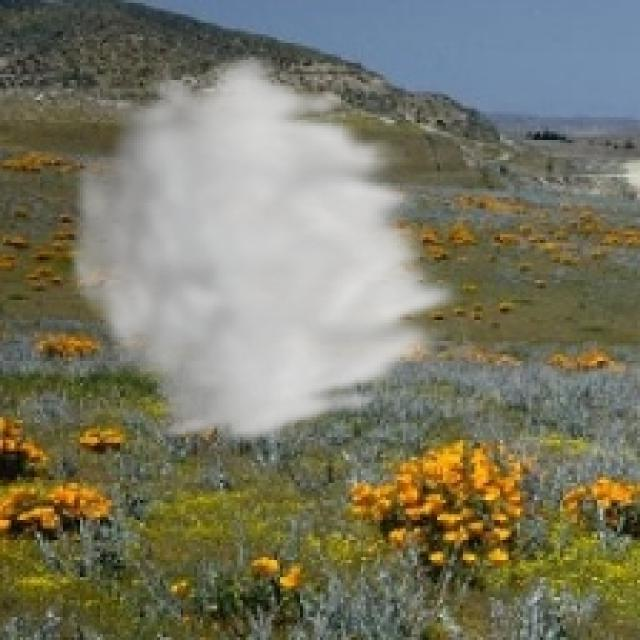smoke: (60, 48, 474, 446)
